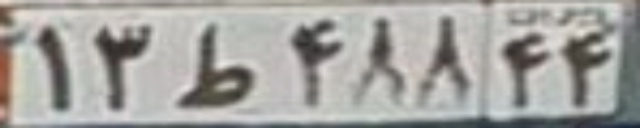1: (33, 26, 70, 111)
3: (91, 24, 154, 109)
4: (287, 18, 342, 107), (559, 32, 611, 107), (501, 32, 549, 108)
8: (351, 16, 410, 103), (418, 15, 473, 101)
taa: (171, 22, 260, 107)
